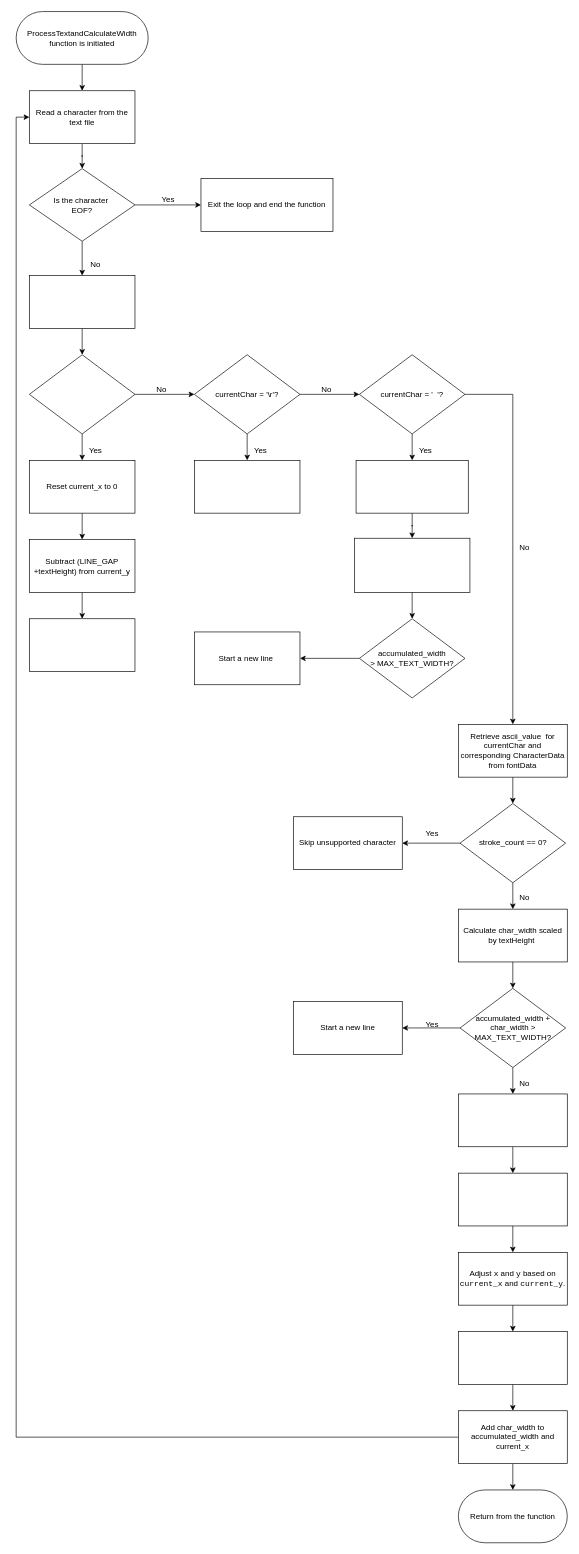
The diagram is 579 pixels wide and 1554 high, and some of its shapes have lost their labels. The shapes that lost their labels are listed below. From the top down, each one's box as (x1, y1, x2, y2) in pixels, then its label:
(29, 275, 135, 328): Continue reading
(29, 354, 135, 434): currentChar = '\n'?
(194, 460, 300, 513): Skip to next iteration
(355, 460, 468, 513): Add space_width to accumulated_width and current_x
(354, 538, 470, 592): Add space_width to accumulated width and current_x
(29, 618, 135, 672): Reset accumulated_width to 0
(458, 1093, 567, 1147): Iterate through strokes in character.strokes
(458, 1172, 567, 1226): Calculate scaled x and y coordinates
(458, 1331, 567, 1384): Call generateAndSendGCode() with the calculated values and prev_pen_state
